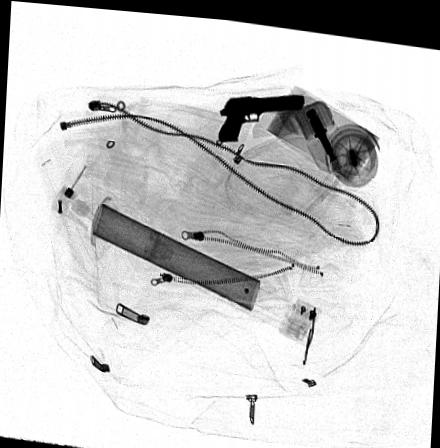Gun: (217, 90, 306, 139)
